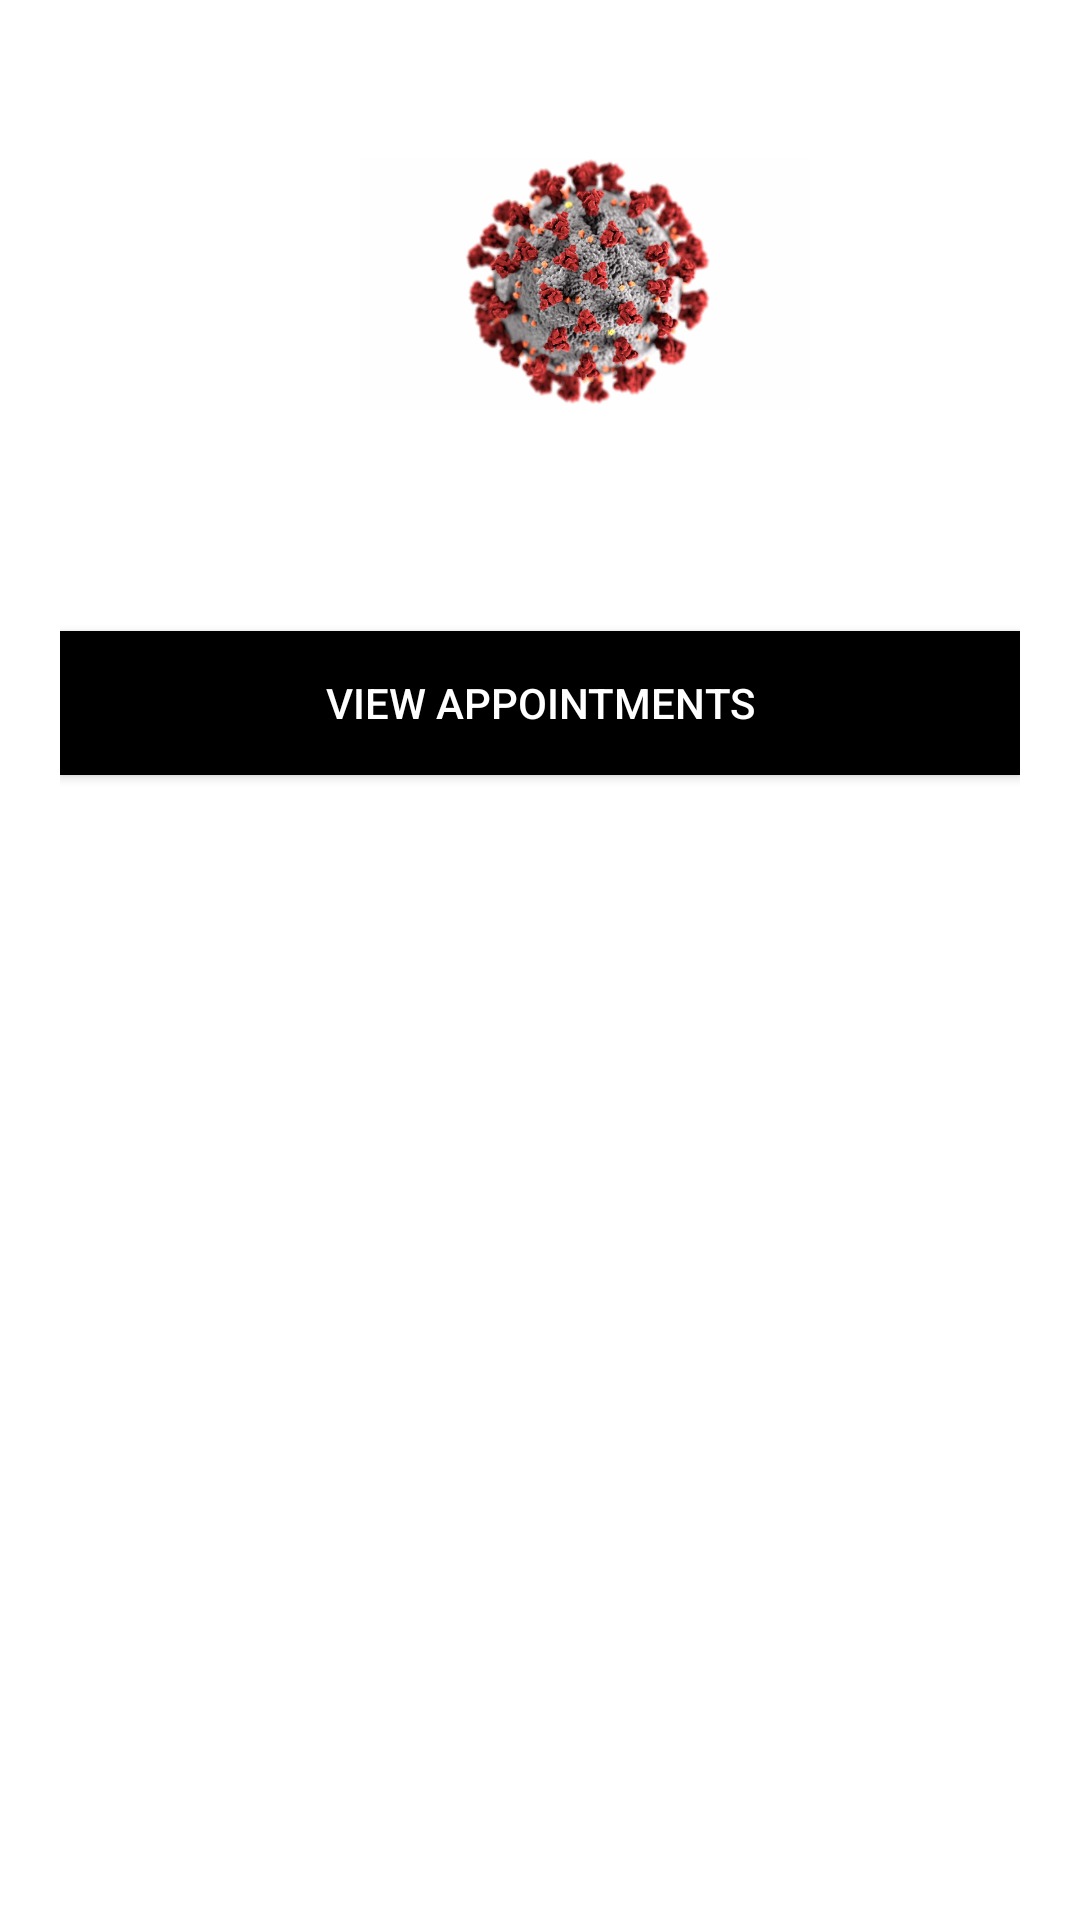

Locate icon controls on the screen. Image size 1080*1920, boxes as box=[x1, y1, x2, y2].
covid: box=[466, 160, 709, 404]
